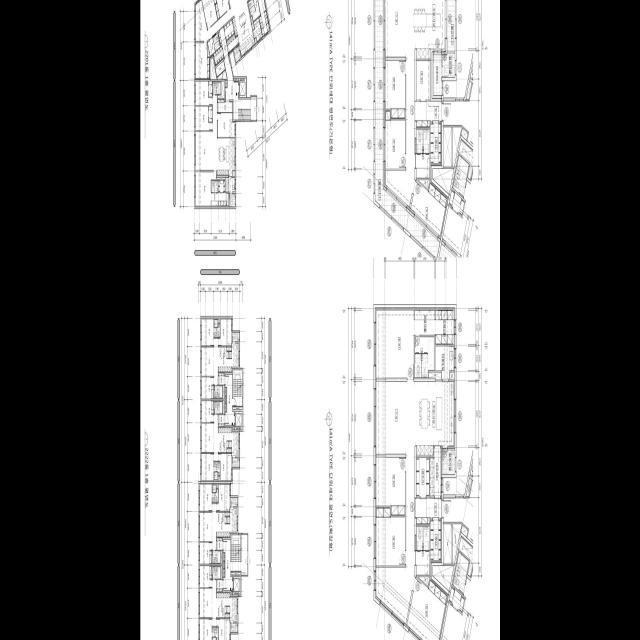background: (140, 0, 500, 640)
space_balconi: (375, 0, 440, 259), (447, 0, 455, 51), (233, 46, 241, 63), (229, 194, 235, 207)
space_bedroom: (375, 308, 414, 378), (406, 577, 448, 640), (410, 180, 448, 239), (375, 457, 405, 516), (375, 508, 405, 566), (384, 61, 405, 119), (384, 111, 405, 169), (195, 172, 216, 207), (416, 61, 431, 100), (195, 43, 209, 79), (202, 0, 217, 29), (195, 106, 212, 131), (195, 81, 212, 105), (218, 113, 235, 137), (218, 318, 232, 346), (216, 483, 230, 511), (218, 454, 232, 481), (199, 483, 212, 511), (201, 318, 213, 346), (201, 454, 213, 481), (216, 619, 230, 640), (199, 542, 212, 564), (215, 0, 229, 20), (199, 566, 211, 588), (201, 377, 213, 399), (201, 401, 213, 422), (199, 619, 211, 640), (208, 81, 212, 97), (208, 106, 212, 122)
space_dressroom: (435, 308, 455, 344), (414, 308, 434, 335), (259, 11, 270, 37), (218, 193, 228, 206), (218, 181, 225, 192)
space_elevator: (239, 78, 246, 97), (233, 577, 240, 595), (235, 412, 242, 430)
space_elevator_hall: (224, 56, 256, 120), (223, 535, 247, 590), (225, 375, 242, 425)
space_front: (414, 99, 442, 127), (416, 499, 442, 524), (430, 123, 441, 165), (430, 520, 441, 562), (218, 27, 228, 58), (213, 47, 224, 66), (224, 20, 234, 40), (217, 99, 232, 112), (216, 538, 222, 550), (216, 580, 222, 592), (218, 373, 224, 385), (218, 415, 224, 427)
space_kitchen: (414, 382, 455, 456), (413, 0, 445, 59), (232, 3, 255, 57), (217, 138, 235, 177), (216, 592, 237, 623), (216, 508, 237, 538), (218, 427, 239, 457), (218, 342, 239, 372)
space_living_room: (375, 381, 414, 626), (384, 0, 414, 209), (195, 0, 247, 41), (195, 95, 217, 170), (199, 580, 216, 626), (201, 415, 218, 461), (199, 504, 216, 550), (201, 339, 218, 385)
space_multipurpose_space: (435, 346, 455, 380)
space_other: (443, 84, 473, 147), (443, 481, 473, 544), (430, 448, 442, 497), (432, 566, 454, 591), (432, 169, 454, 194), (416, 458, 429, 497), (452, 524, 461, 564), (452, 127, 461, 167), (433, 55, 442, 95), (443, 127, 452, 167), (443, 524, 452, 564), (226, 34, 238, 53), (253, 18, 262, 42), (215, 61, 225, 77), (225, 178, 235, 193), (210, 58, 217, 79), (466, 81, 472, 99), (466, 478, 472, 496), (218, 81, 224, 99), (418, 577, 429, 586), (418, 180, 429, 189), (429, 372, 441, 380), (217, 70, 227, 79), (461, 525, 468, 537), (461, 128, 468, 140), (251, 16, 254, 30), (450, 372, 455, 380), (207, 45, 210, 57), (231, 572, 240, 575), (233, 407, 242, 410), (254, 38, 257, 44), (225, 512, 229, 516), (217, 178, 225, 180), (225, 614, 229, 618), (227, 347, 231, 351), (233, 78, 238, 81), (232, 171, 235, 176), (221, 551, 222, 564), (223, 401, 224, 414), (221, 566, 222, 579), (223, 386, 224, 399), (225, 81, 227, 87), (227, 449, 231, 452), (216, 483, 218, 488), (218, 318, 220, 323), (223, 553, 224, 561), (218, 477, 220, 481), (225, 404, 226, 412), (223, 569, 224, 577), (225, 396, 226, 403), (225, 388, 226, 395), (223, 562, 224, 568), (233, 426, 234, 430), (231, 592, 232, 595)
space_outdoor_room: (442, 450, 455, 474), (442, 53, 455, 77), (232, 458, 239, 467), (230, 498, 237, 507), (232, 332, 239, 341), (230, 624, 237, 632)
space_staircase: (233, 370, 242, 397), (231, 535, 240, 562), (238, 109, 250, 120)
space_toilet: (415, 337, 434, 378), (416, 154, 429, 178), (416, 551, 429, 575), (248, 0, 260, 21), (416, 527, 423, 550), (416, 130, 423, 153), (207, 38, 215, 56), (423, 527, 429, 550), (423, 130, 429, 153), (258, 0, 266, 15), (214, 402, 222, 414), (212, 567, 220, 579), (212, 551, 220, 563), (214, 386, 222, 398), (212, 82, 220, 94), (211, 193, 218, 206), (212, 489, 218, 503), (214, 462, 220, 476), (212, 627, 218, 640), (214, 324, 220, 337), (214, 40, 220, 51), (213, 33, 219, 44), (214, 181, 218, 193), (211, 181, 214, 193), (212, 485, 216, 493), (214, 472, 218, 480), (214, 320, 217, 327), (212, 637, 216, 640)
